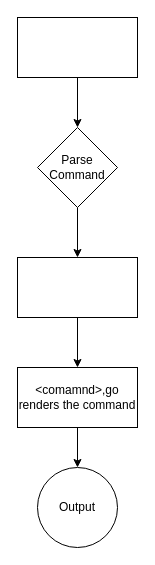
Some shapes in this 155 by 565 pixel diagram are drawn without their labels. The box of each missing label's shape, as (x1, y1, x2, y2) in pixels:
Input: (16, 16, 138, 78)
reader.go performs git operations: (16, 256, 138, 318)
